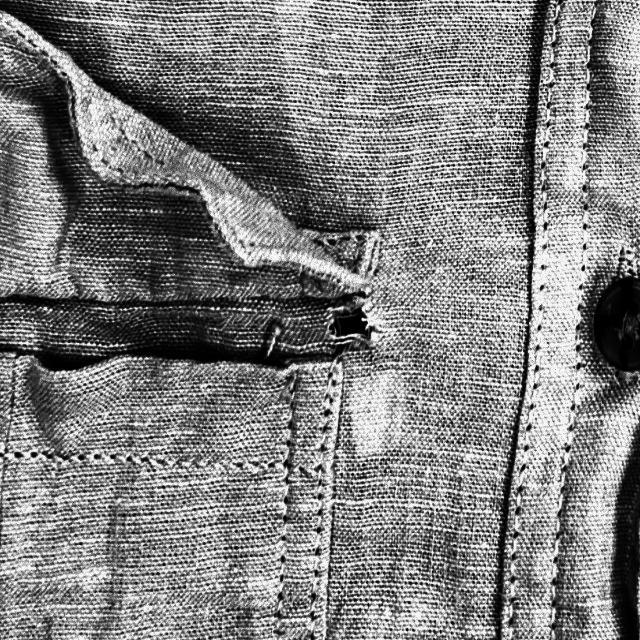Hole: (318, 295, 374, 349)
